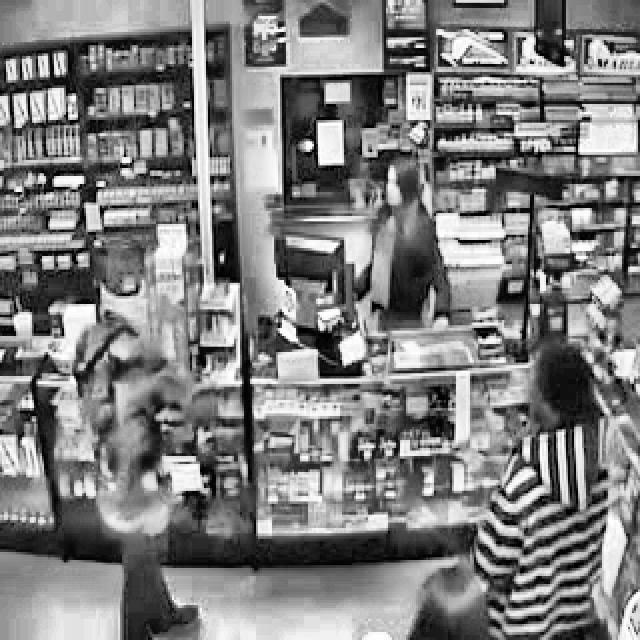robbery: (70, 237, 226, 640)
